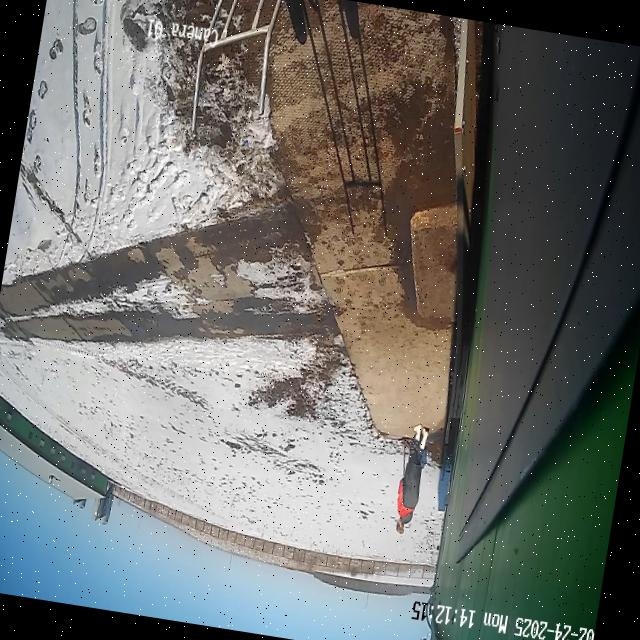Red uniform: (389, 420, 434, 539)
